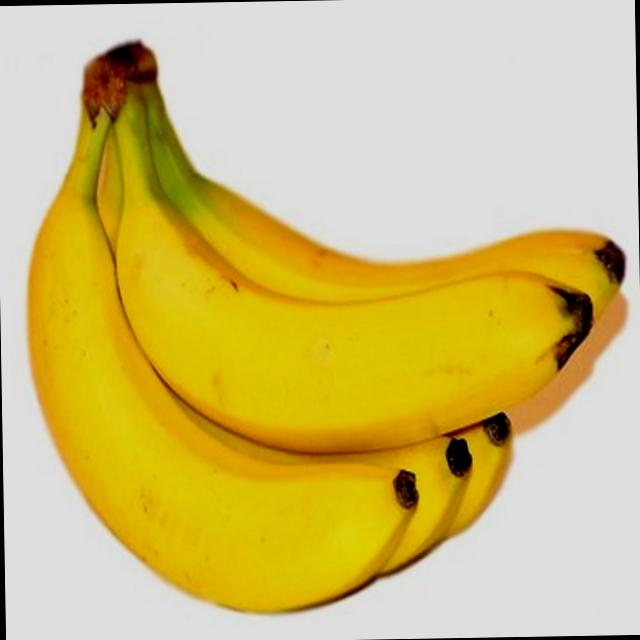banana: (5, 173, 419, 633), (113, 186, 595, 479), (142, 150, 619, 406)
